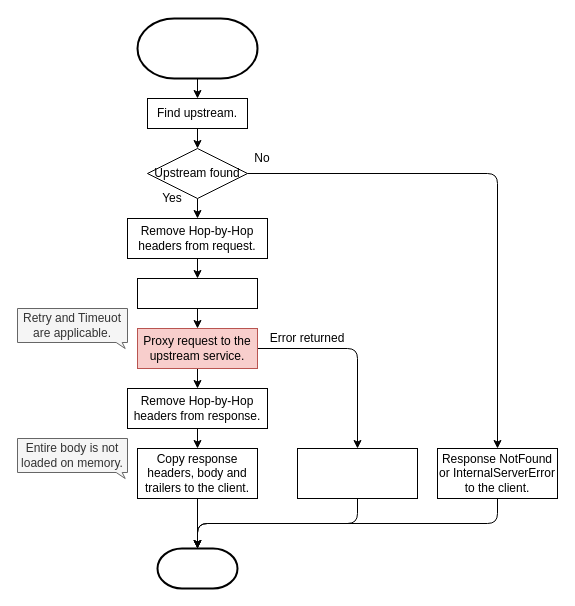
The diagram is 575 pixels wide and 606 high, and some of its shapes have lost their labels. The box of each missing label's shape, as (x1, y1, x2, y2) in pixels:
Add Forwarded header.: (136, 278, 258, 308)
Input HTTP Requests: (136, 17, 258, 79)
Response an appropriate error to the client.: (296, 448, 418, 498)
Return: (156, 547, 238, 589)
